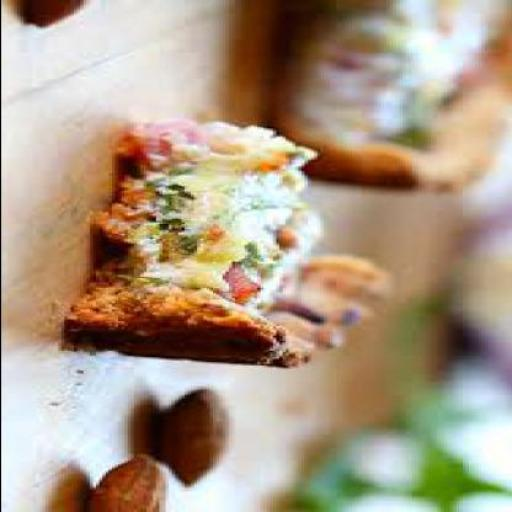biodegradable: (63, 119, 405, 367), (264, 0, 510, 192), (157, 385, 234, 486), (85, 451, 171, 510), (21, 0, 89, 27)
